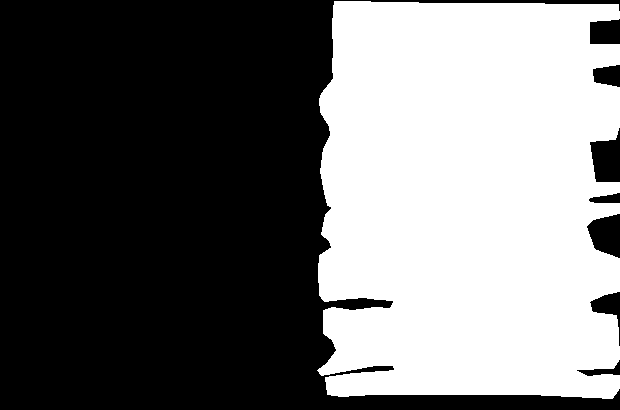type4: (315, 1, 620, 400)
